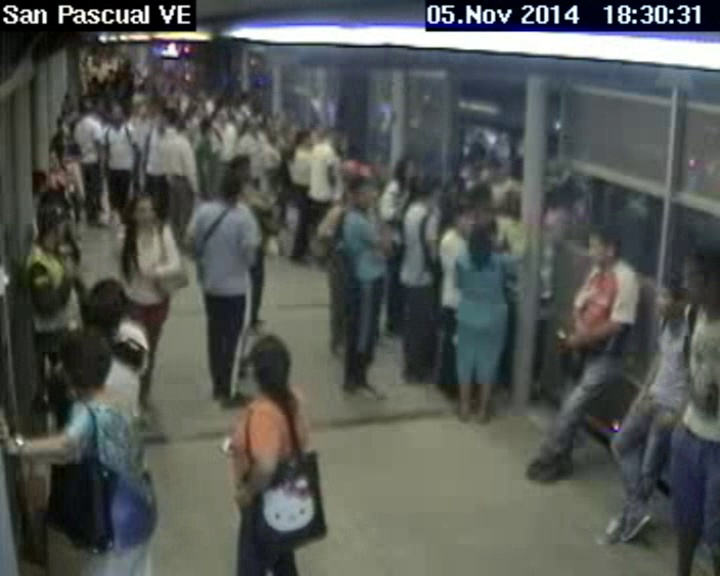person: (236, 333, 298, 401), (51, 331, 115, 394), (82, 273, 131, 338), (676, 245, 720, 312), (29, 193, 75, 244), (656, 269, 687, 321), (120, 192, 162, 229), (584, 230, 625, 267), (346, 173, 381, 214), (472, 212, 496, 261), (414, 174, 441, 208), (214, 170, 240, 205), (450, 209, 482, 237), (393, 155, 414, 189), (42, 143, 61, 170), (166, 113, 185, 136), (343, 146, 359, 171), (293, 129, 311, 151), (196, 117, 214, 138), (322, 128, 339, 150), (244, 115, 260, 137), (217, 107, 231, 129), (79, 101, 96, 119), (110, 108, 125, 122)
